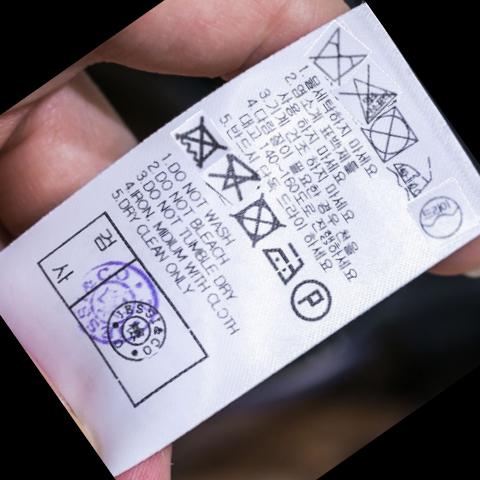DN_bleach: (353, 75, 395, 119), (220, 154, 261, 198)
DN_tumble_dry: (363, 105, 424, 160), (239, 197, 287, 245)
DN_wash: (314, 33, 368, 84), (177, 120, 227, 164)
dry_clean: (414, 188, 470, 244)
dry_clean_any_solvent_except_trichloroethylene: (287, 279, 341, 327)
iron_medium: (264, 237, 307, 285), (390, 156, 435, 198)
